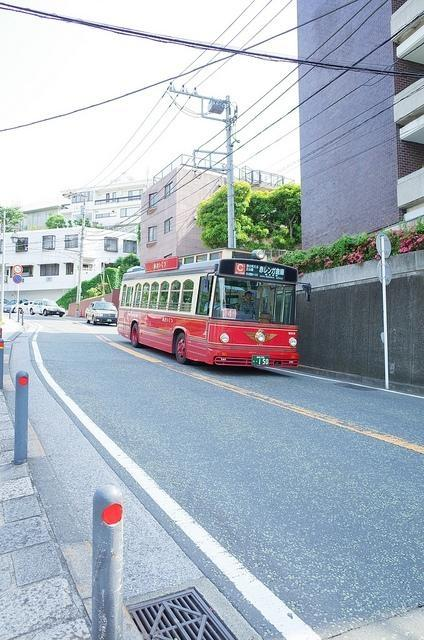bus: (116, 247, 300, 368)
car: (29, 298, 66, 318), (86, 302, 118, 325), (3, 299, 28, 313), (16, 300, 34, 314), (4, 298, 10, 304)
